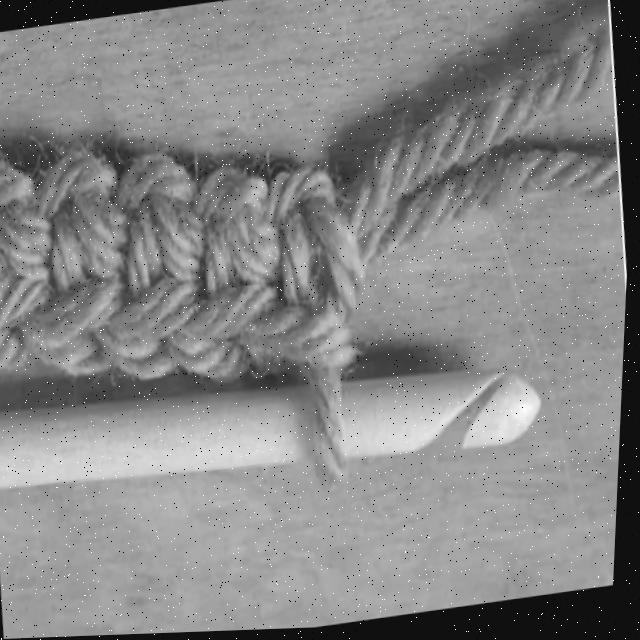ch: (117, 156, 205, 215), (44, 154, 115, 216), (199, 164, 268, 222), (276, 174, 340, 224), (0, 166, 38, 201)
sc: (164, 197, 287, 382), (237, 200, 361, 372), (99, 203, 202, 383), (23, 202, 125, 377), (0, 206, 53, 373)
